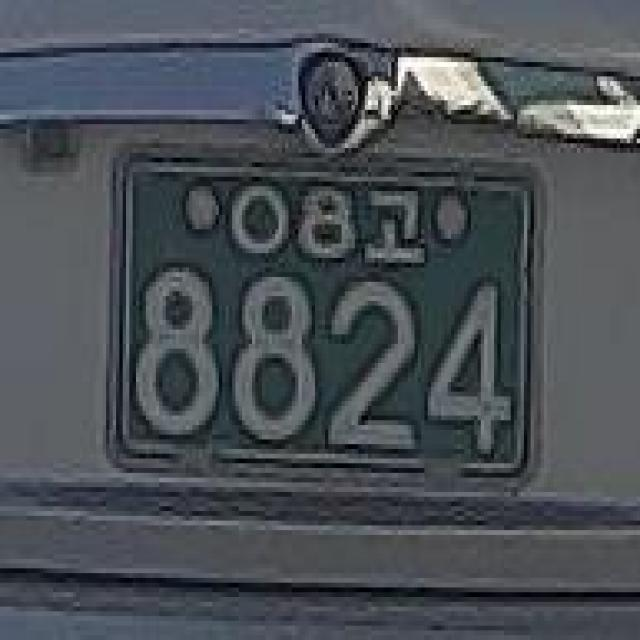illegal_plate: (96, 137, 554, 498)
